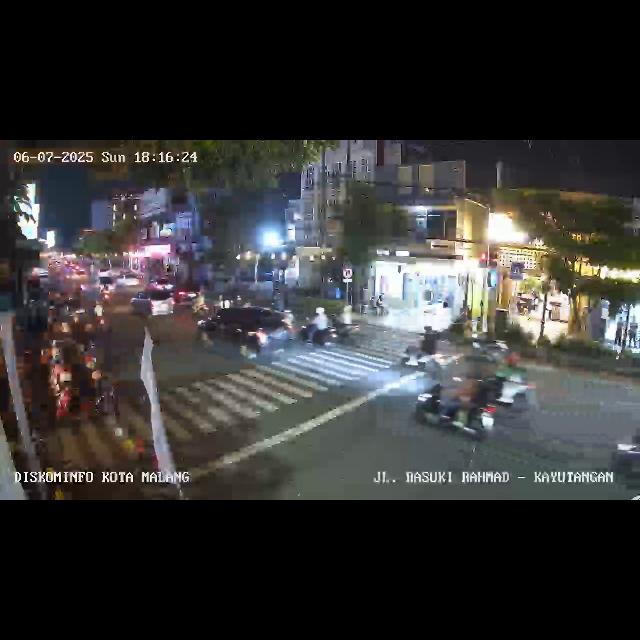car: (205, 304, 291, 356), (606, 416, 640, 500), (129, 286, 175, 320)
motorcycle: (412, 356, 500, 440), (480, 356, 540, 416), (396, 322, 448, 376), (294, 306, 338, 350), (468, 322, 516, 361), (331, 306, 363, 350), (92, 298, 108, 334), (192, 291, 210, 317)
person: (615, 316, 625, 349), (629, 316, 637, 350)
